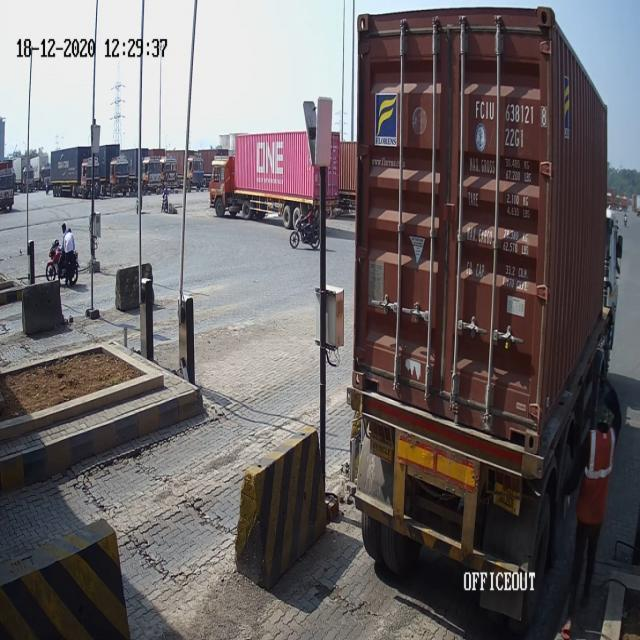ISO: (494, 128, 528, 152)
container_number: (474, 102, 546, 125)
